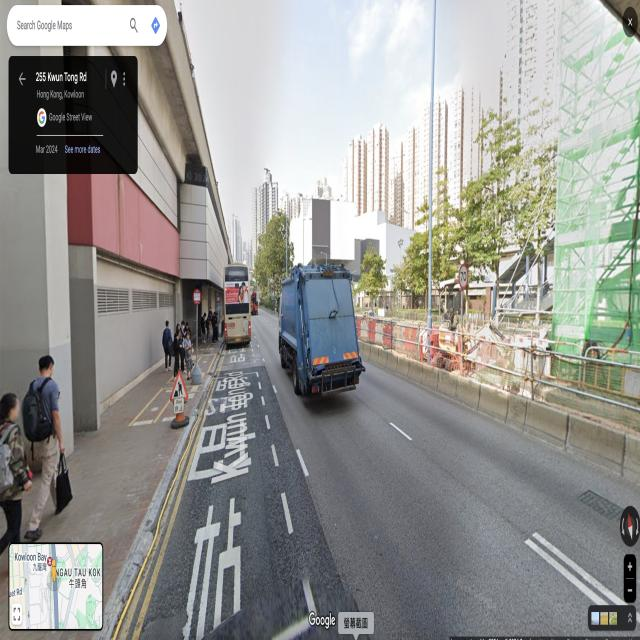Warning-Sign: (170, 371, 189, 400)
